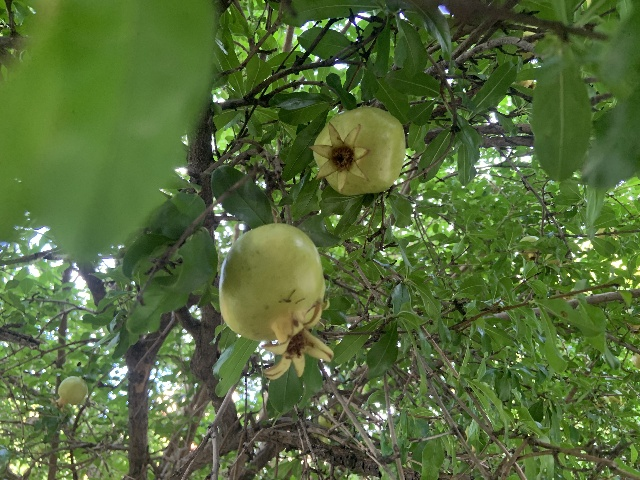mid-growth: (219, 223, 335, 380), (309, 106, 406, 196), (51, 375, 87, 412), (519, 235, 542, 261)
